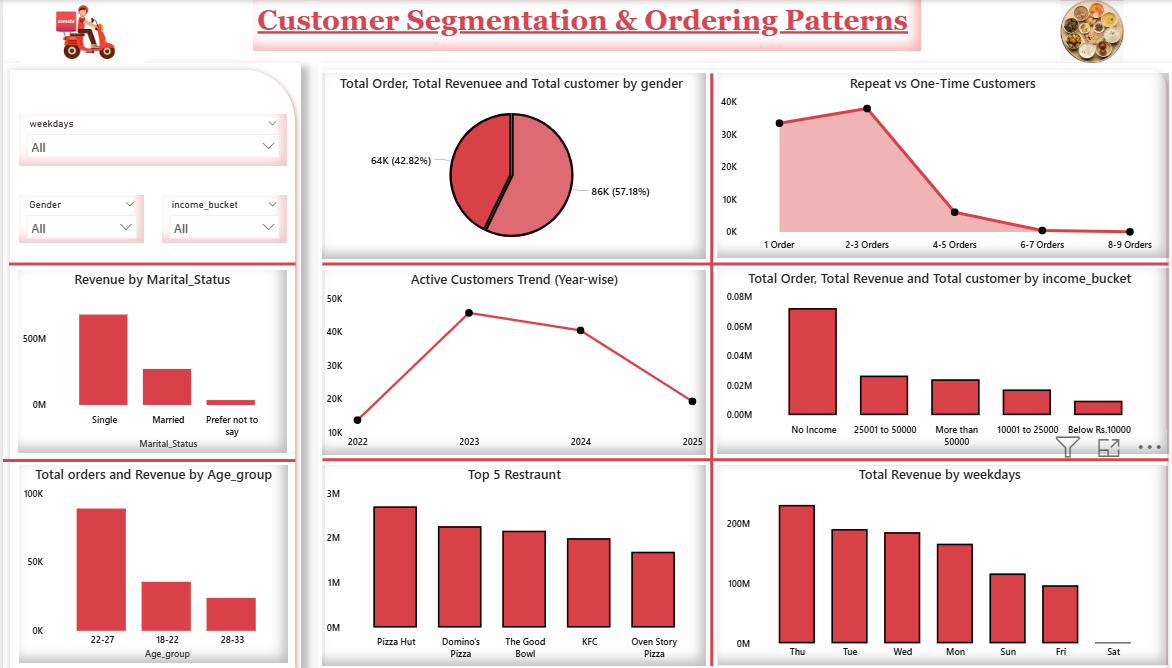

This screenshot's page, from the dashboard's own definition file:
{"tool":"powerbi","page":{"name":"Customer Segmentation & Ordering Patterns","canvas":[1550,900],"ordinal":1},"visuals":[{"type":"shape","box":[0,83.5,395.7,817.2],"z":0},{"type":"columnChart","title":"Total orders and Revenue by Age_group","fields":{"Category":["zomato_analytics viw_users.Age_group"],"Y":["zomato_analytics_viw_orders.Total orders"]},"box":[21.9,616.4,355.9,262.5],"z":1000},{"type":"columnChart","title":"Revenue by Marital_Status","fields":{"Category":["zomato_analytics viw_users.Marital_Status"],"Y":["zomato_analytics_viw_orders.Total Revenue"]},"box":[19.9,357.9,355.9,242.6],"z":2000},{"type":"shape","box":[417.5,83.5,1133.3,817.2],"z":3000},{"type":"columnChart","title":"Top 5 Restraunt","fields":{"Category":["zomato_analytics viw_restaurants.name"],"Y":["zomato_analytics_viw_orders.Total Revenue"]},"box":[423.5,616.4,509,266],"z":4000},{"type":"lineStackedColumnComboChart","fields":{"Category":["zomato_analytics_viw_orders.weekdays"],"Y":["zomato_analytics_viw_orders.Total Revenue"]},"box":[946.4,616.4,598.5,266],"z":5000},{"type":"lineChart","title":"Active Customers Trend (Year-wise)","fields":{"Category":["zomato_analytics viw_orders.order_date.Variation.Date Hierarchy.Year"],"Y":["zomato_analytics viw_orders.distinct count"]},"box":[423.5,356.9,509,245],"z":6000},{"type":"clusteredColumnChart","title":"Total Order, Total Revenue and Total customer by income_bucket","fields":{"Y":["zomato_analytics vw_customer_metrics.Total Order"],"Category":["zomato_analytics viw_users.income_bucket"]},"box":[946.4,356.7,598.5,245],"z":7000},{"type":"pieChart","fields":{"Category":["zomato_analytics viw_users.gender"],"Y":["zomato_analytics vw_customer_metrics.Total Order"]},"box":[423.5,97.4,509,245],"z":8000},{"type":"areaChart","title":"Repeat vs One-Time Customers","fields":{"Category":["zomato_analytics vw_customer_metrics.Order_Frequency"],"Y":["CountNonNull(zomato_analytics vw_customer_metrics.user_id)"]},"box":[946.4,97.4,598.5,244.6],"z":9000},{"type":"slicer","fields":{"Values":["zomato_analytics viw_users.gender"]},"box":[21.9,258.5,165,63.6],"z":10000},{"type":"slicer","fields":{"Values":["zomato_analytics viw_users.income_bucket"]},"box":[210.8,258.5,165,63.6],"z":11000},{"type":"slicer","fields":{"Values":["zomato_analytics_viw_orders.weekdays"]},"box":[21.9,151.1,353.9,69.6],"z":12000},{"type":"textbox","box":[332,0,884.8,67.6],"z":13000},{"type":"image","box":[0,0,210.8,83.5],"z":14000},{"type":"image","box":[1367.9,0,151.1,83.5],"z":15000},{"type":"shape","box":[423.5,342,1121.4,15.9],"z":16000},{"type":"shape","box":[423.5,600.5,1121.4,17.9],"z":17000},{"type":"shape","box":[932.5,97.4,13.9,785.4],"z":18000},{"type":"shape","box":[8,342,379.8,15.9],"z":19000},{"type":"shape","box":[0,602.4,387.7,15.9],"z":20000}]}

Visuals, with their boxes in screenshot pixels (x1, y1, x2, y2), scaled from the page's 1550x900 canvas onto the 1172x668 screenshot:
shape: region(0, 62, 299, 667)
"Total orders and Revenue by Age_group" columnChart: region(17, 458, 286, 652)
"Revenue by Marital_Status" columnChart: region(15, 266, 284, 446)
shape: region(316, 62, 1171, 667)
"Top 5 Restraunt" columnChart: region(320, 458, 705, 655)
lineStackedColumnComboChart - zomato_analytics_viw_orders.weekdays x zomato_analytics_viw_orders.Total Revenue: region(716, 458, 1168, 655)
"Active Customers Trend (Year-wise)" lineChart: region(320, 265, 705, 447)
"Total Order, Total Revenue and Total customer by income_bucket" clusteredColumnChart: region(716, 265, 1168, 447)
pieChart - zomato_analytics viw_users.gender x zomato_analytics vw_customer_metrics.Total Order: region(320, 72, 705, 254)
"Repeat vs One-Time Customers" areaChart: region(716, 72, 1168, 254)
slicer - zomato_analytics viw_users.gender: region(17, 192, 141, 239)
slicer - zomato_analytics viw_users.income_bucket: region(159, 192, 284, 239)
slicer - zomato_analytics_viw_orders.weekdays: region(17, 112, 284, 164)
textbox: region(251, 0, 920, 50)
image: region(0, 0, 159, 62)
image: region(1034, 0, 1149, 62)
shape: region(320, 254, 1168, 266)
shape: region(320, 446, 1168, 459)
shape: region(705, 72, 716, 655)
shape: region(6, 254, 293, 266)
shape: region(0, 447, 293, 459)
